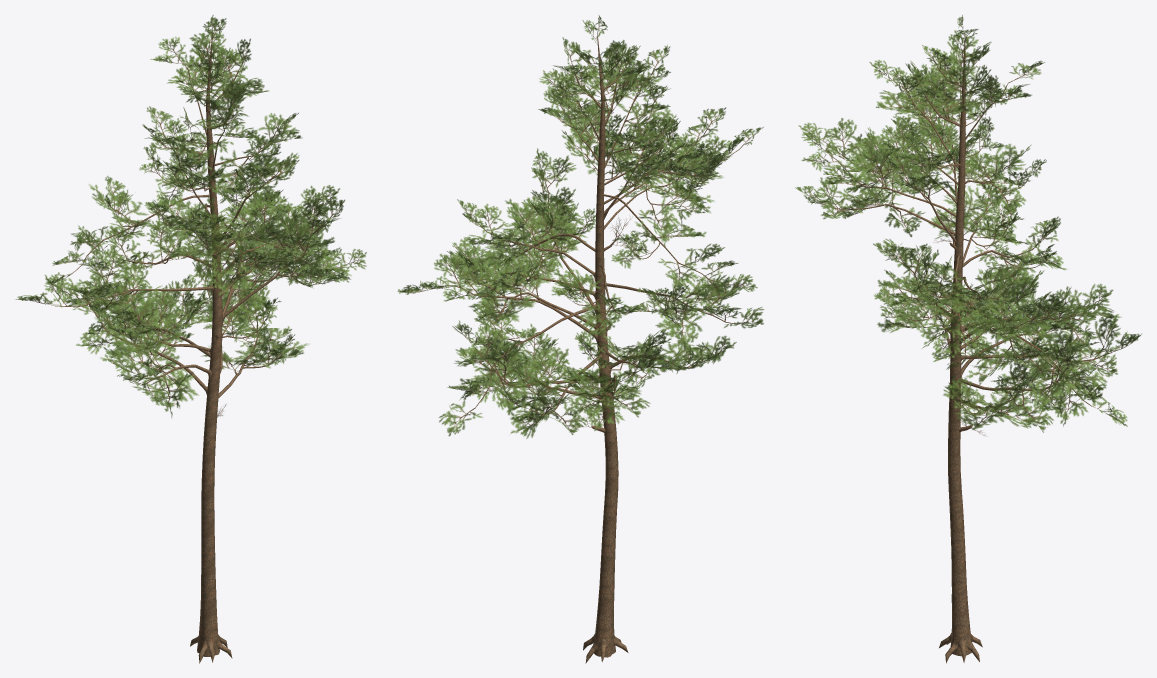
Rendered from pine-large_1-lod0.gltf.
3 views of the same model, side by side, from view 1: azimuth 30°, elevation 25°; view 2: azimuth 150°, elevation 25°; view 3: azimuth 270°, elevation 25° (orthographic).
Visible parts, largest first — view 1: Pine_large_1_LOD0_Clusters_Mat_0, Pine_large_1_LOD0_Bark_Mat_0; view 2: Pine_large_1_LOD0_Clusters_Mat_0, Pine_large_1_LOD0_Bark_Mat_0; view 3: Pine_large_1_LOD0_Clusters_Mat_0, Pine_large_1_LOD0_Bark_Mat_0.
Boxes of the visible parts, x1,y1,x2,y2 form: Pine_large_1_LOD0_Clusters_Mat_0: (15,15,366,417); Pine_large_1_LOD0_Bark_Mat_0: (55,33,340,663); Pine_large_1_LOD0_Clusters_Mat_0: (397,15,764,438); Pine_large_1_LOD0_Bark_Mat_0: (438,34,740,663); Pine_large_1_LOD0_Clusters_Mat_0: (795,15,1141,435); Pine_large_1_LOD0_Bark_Mat_0: (822,33,1111,663).
Bounding box in the file's own units: 17.37 × 31.81 × 15.56.
Materials: 2 (2 with a texture image).
